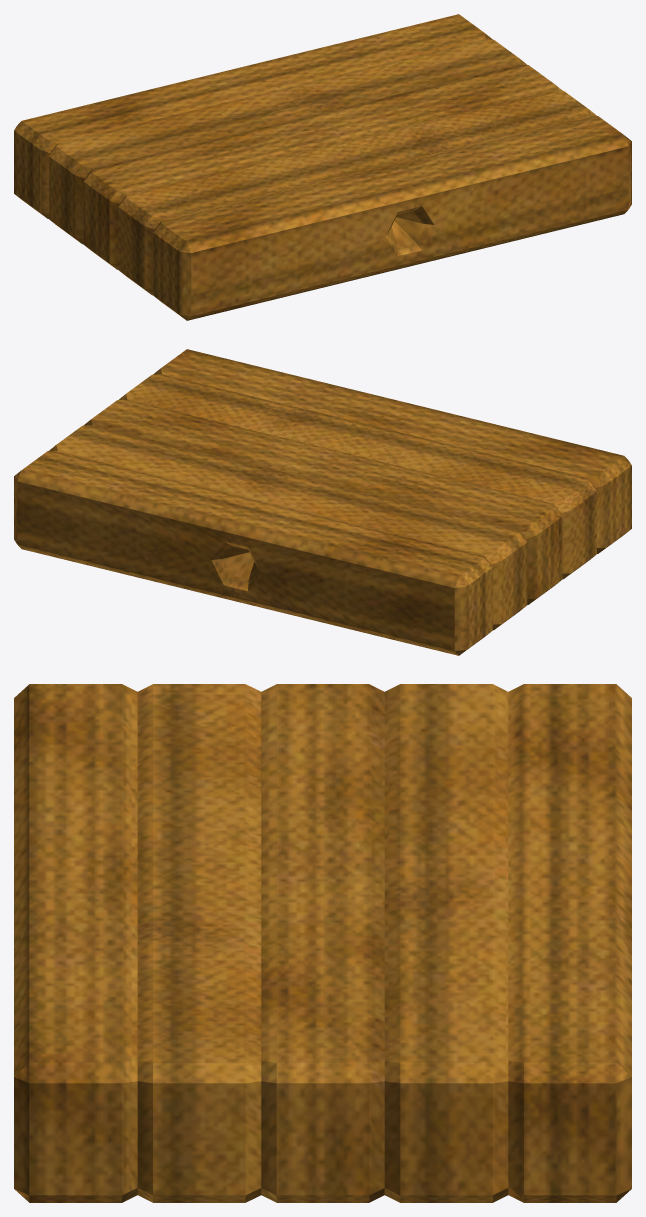
File: WatchTowerRotateStepLift_bake.dae
3 renders of one model, top to bottom at view 1: azimuth 30°, elevation 25°; view 2: azimuth 150°, elevation 25°; view 3: azimuth 270°, elevation 25°, orthographic. The views are drawn at different scales.
Visible parts, largest first — view 1: m0; view 2: m0; view 3: m0.
Part boxes in pixels (x1,y1,x2,y2): m0: (14,14,631,320); m0: (14,349,631,655); m0: (14,684,631,1202).
Size of the model in its own units: 600 by 100 by 400.
2 materials, 2 textured.
